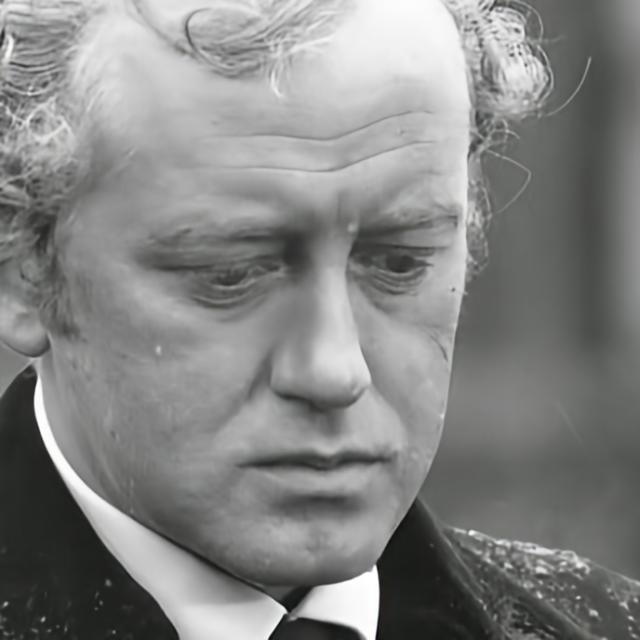sad: (48, 0, 472, 591)
